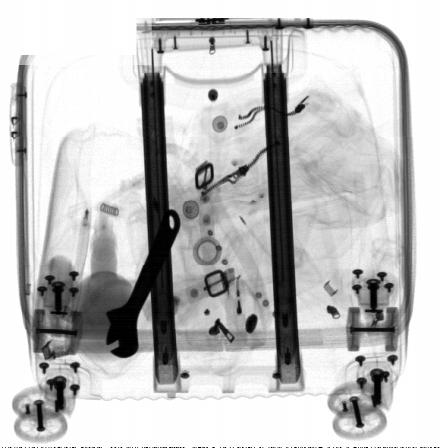Wrench: (104, 209, 181, 358)
